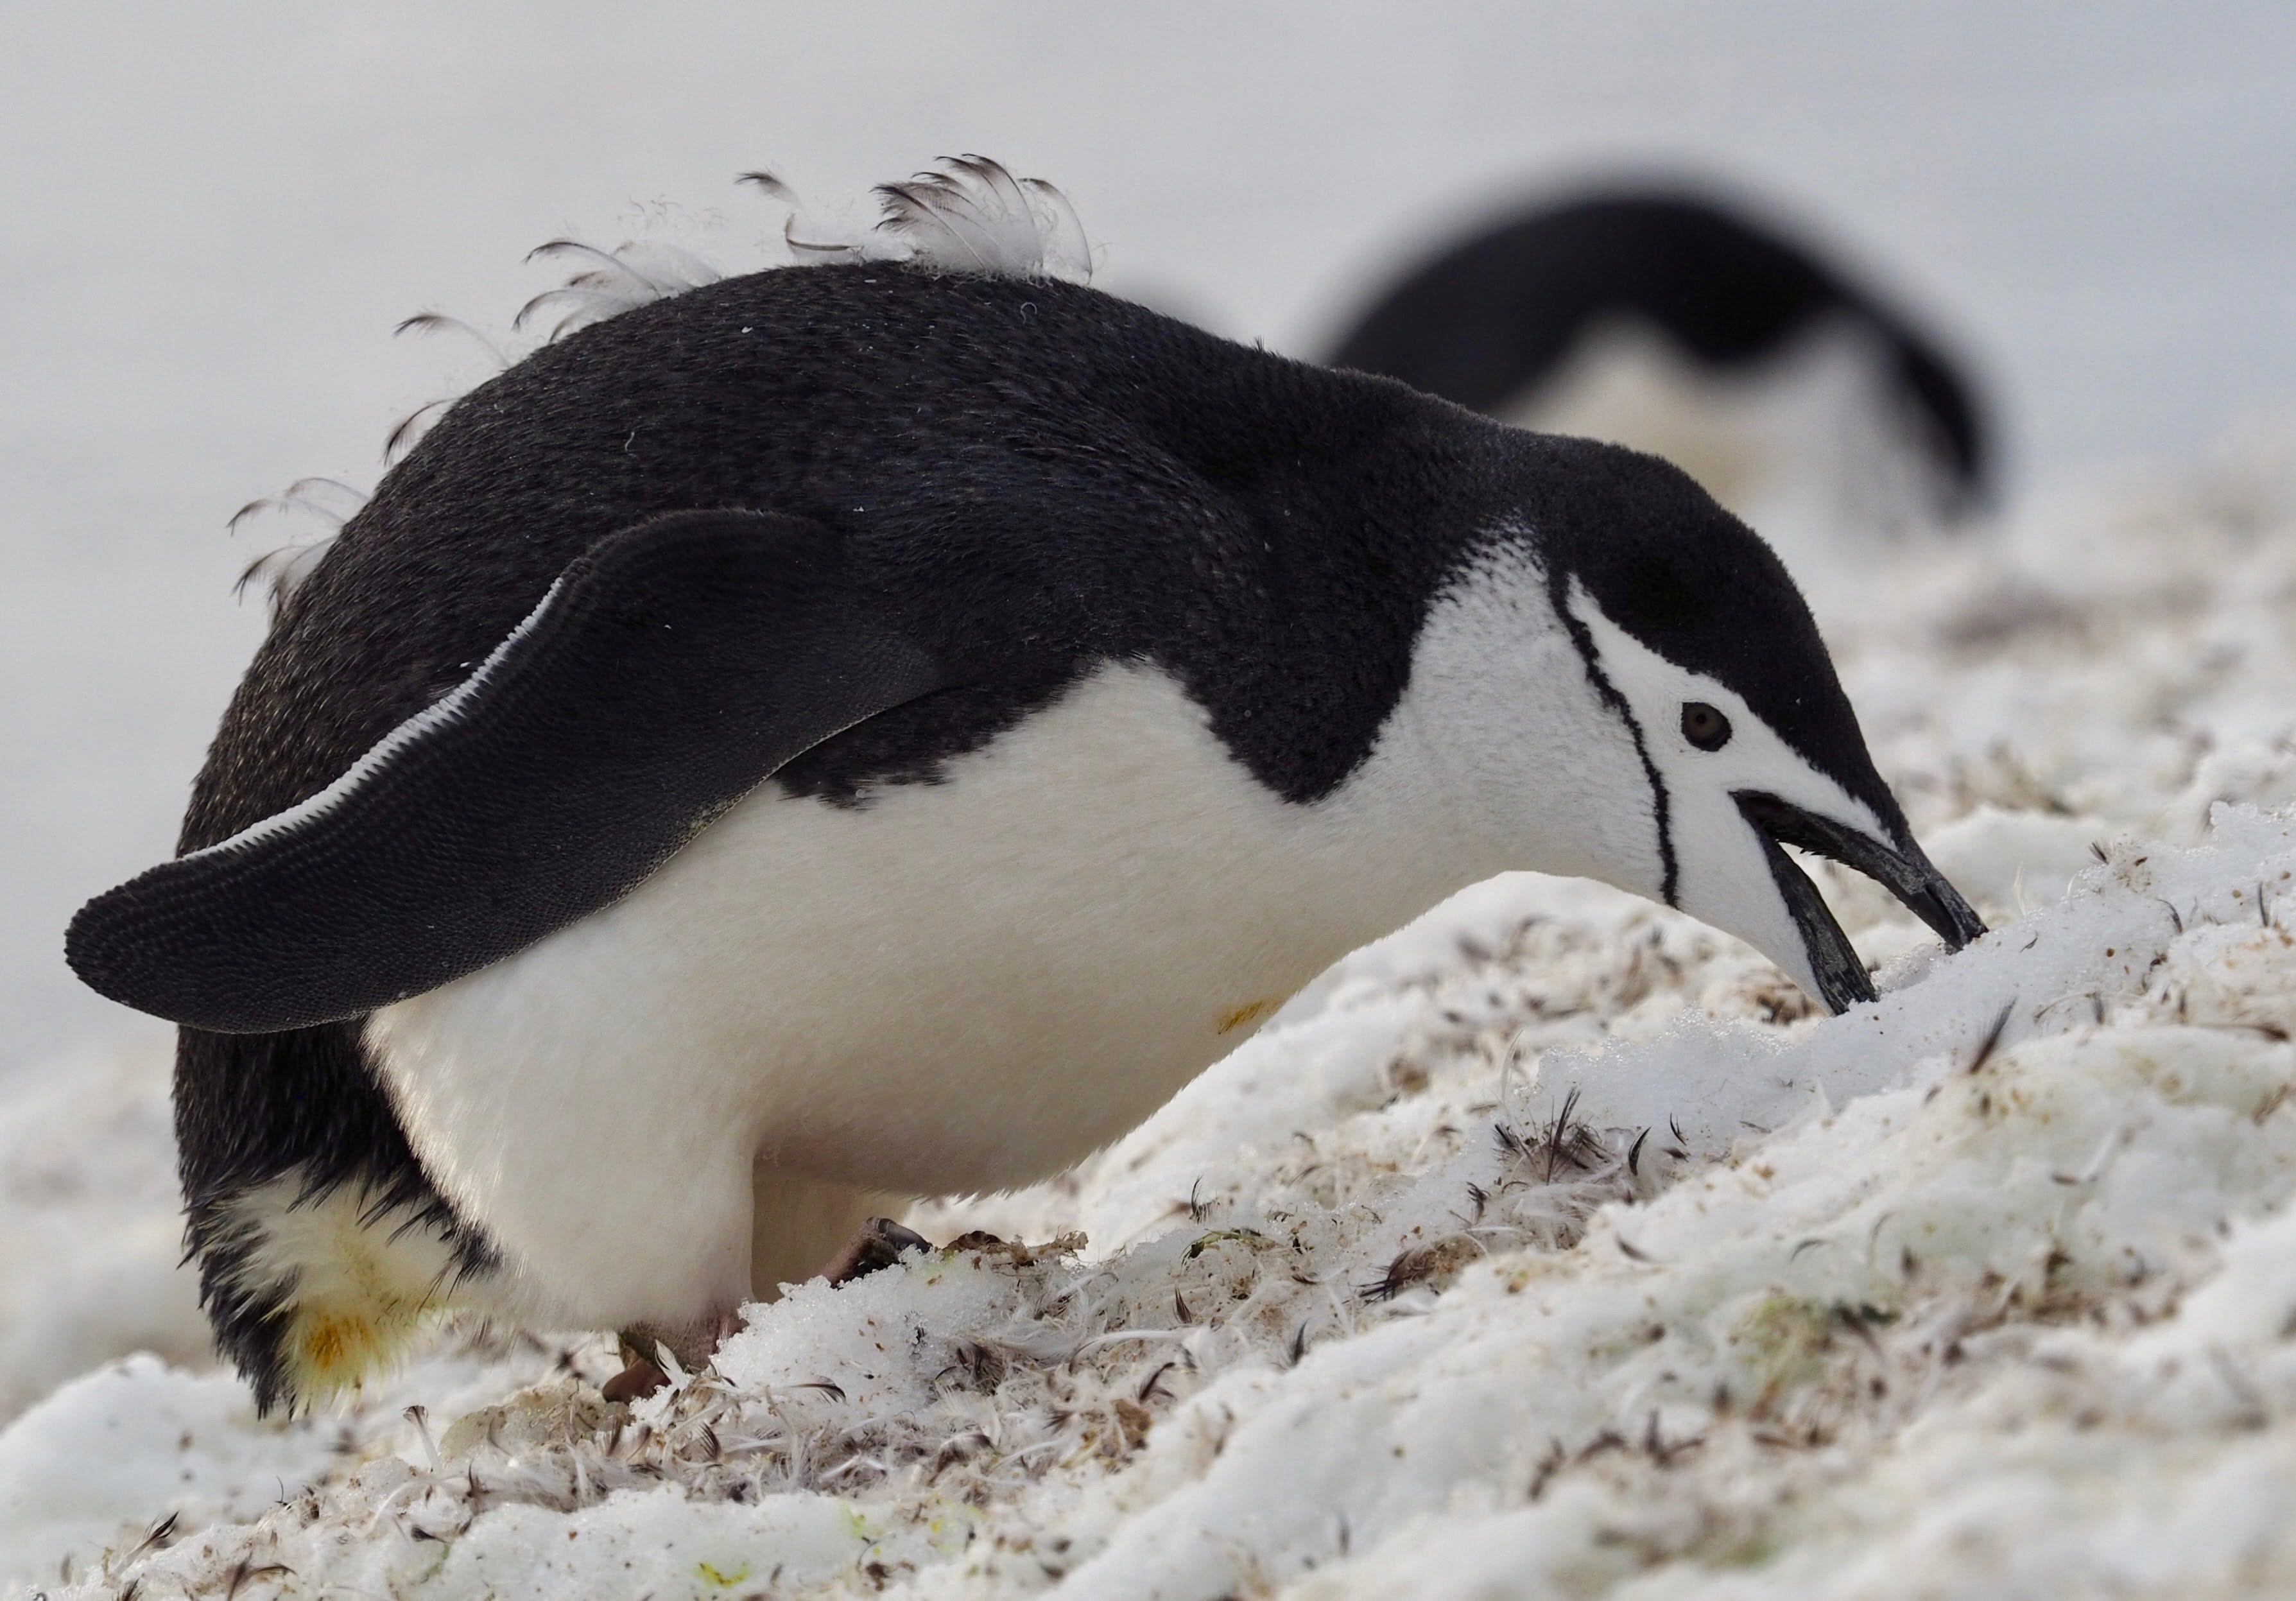chinstrap: (33, 174, 2057, 1493)
